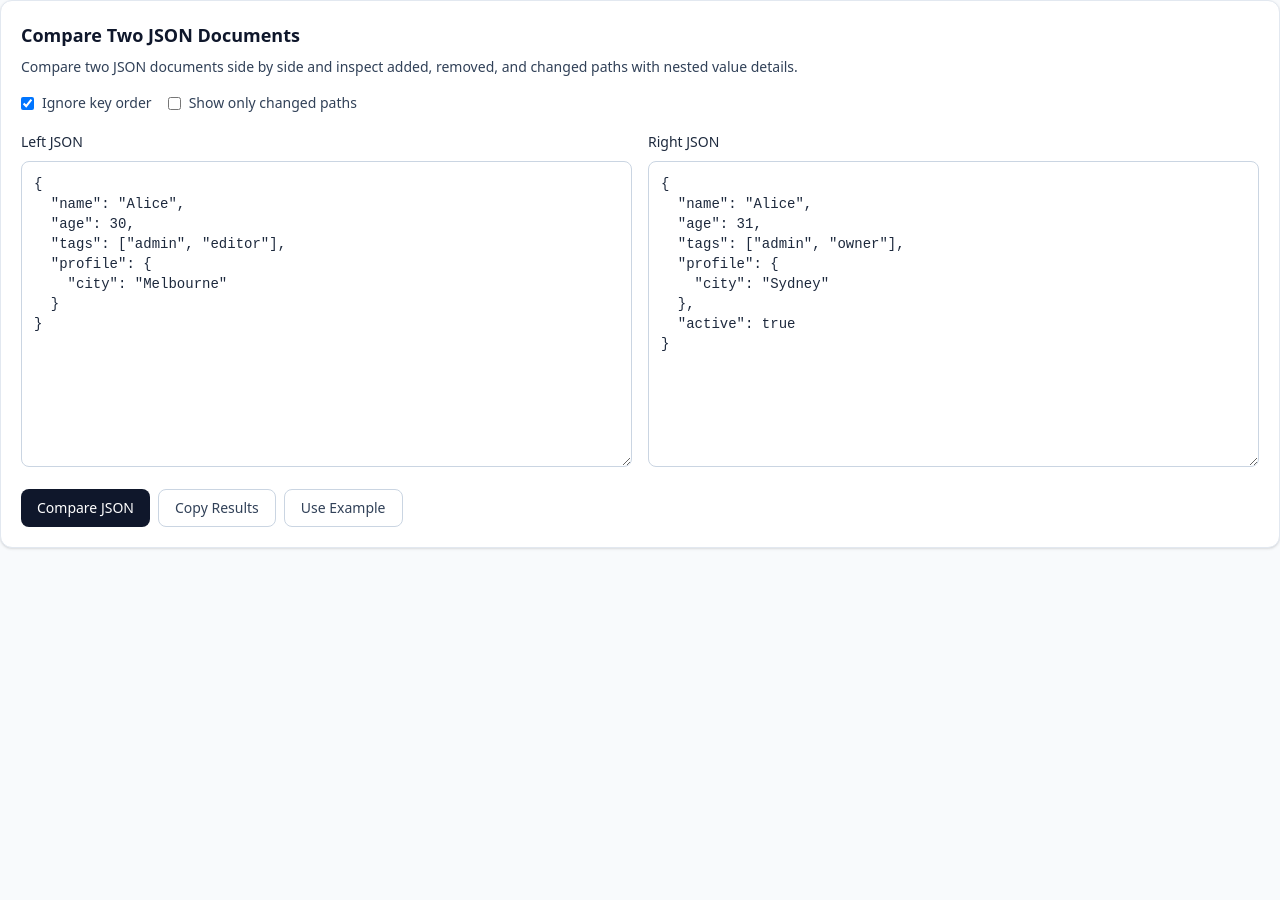
Test: JsonDiffCheckerTool › compares side-by-side JSON and shows grouped results
This screenshot has width=1280, height=900.
Click the button "Compare JSON". click: (86,508)
box: x1=21 y1=489 x2=150 y2=527
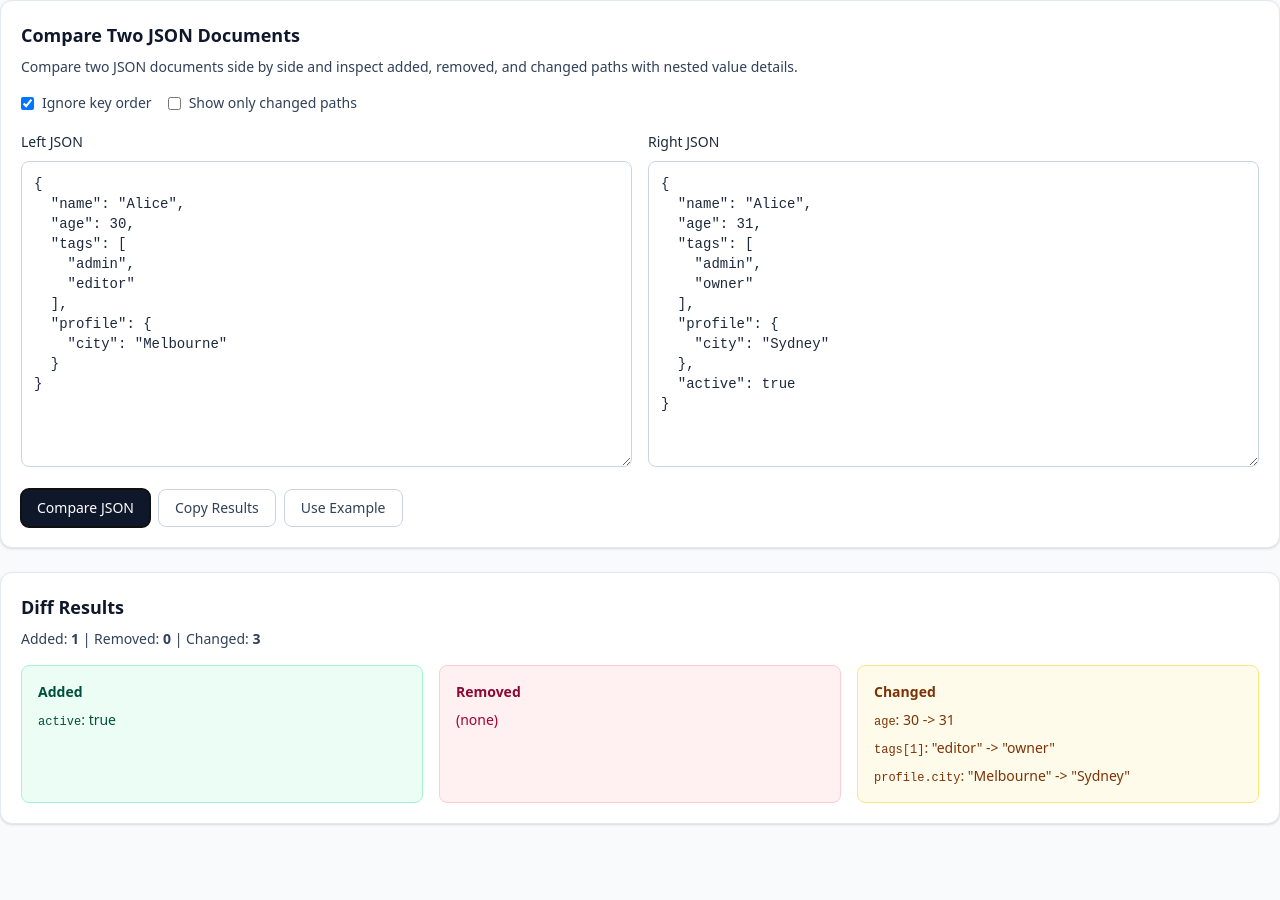
Now the heading "Diff Results" is shown, box x1=21 y1=595 x2=124 y2=619
Now the heading "Added" is shown, box x1=38 y1=682 x2=82 y2=701
Now the heading "Removed" is shown, box x1=456 y1=682 x2=521 y2=701
